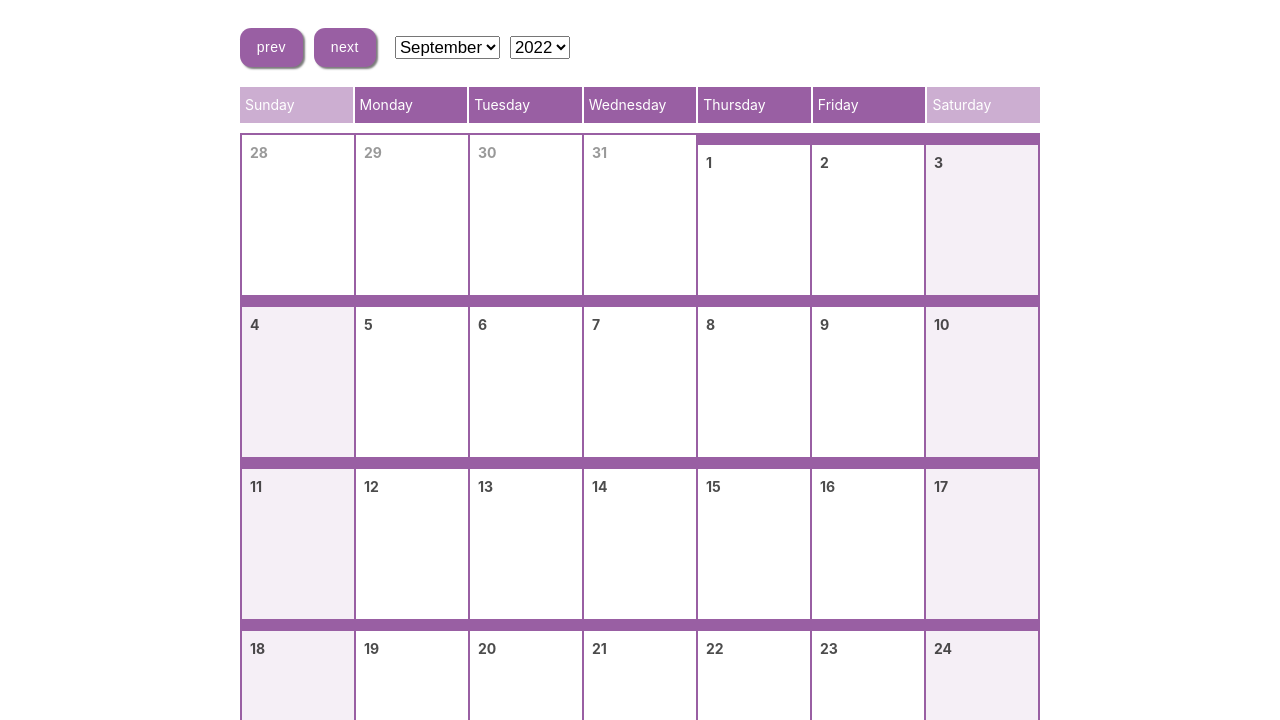
Test: Modal opens on date click and check date in modal
The width and height of the screenshot is (1280, 720).
Click the text "15" at (713, 486), box [706, 478, 721, 495]
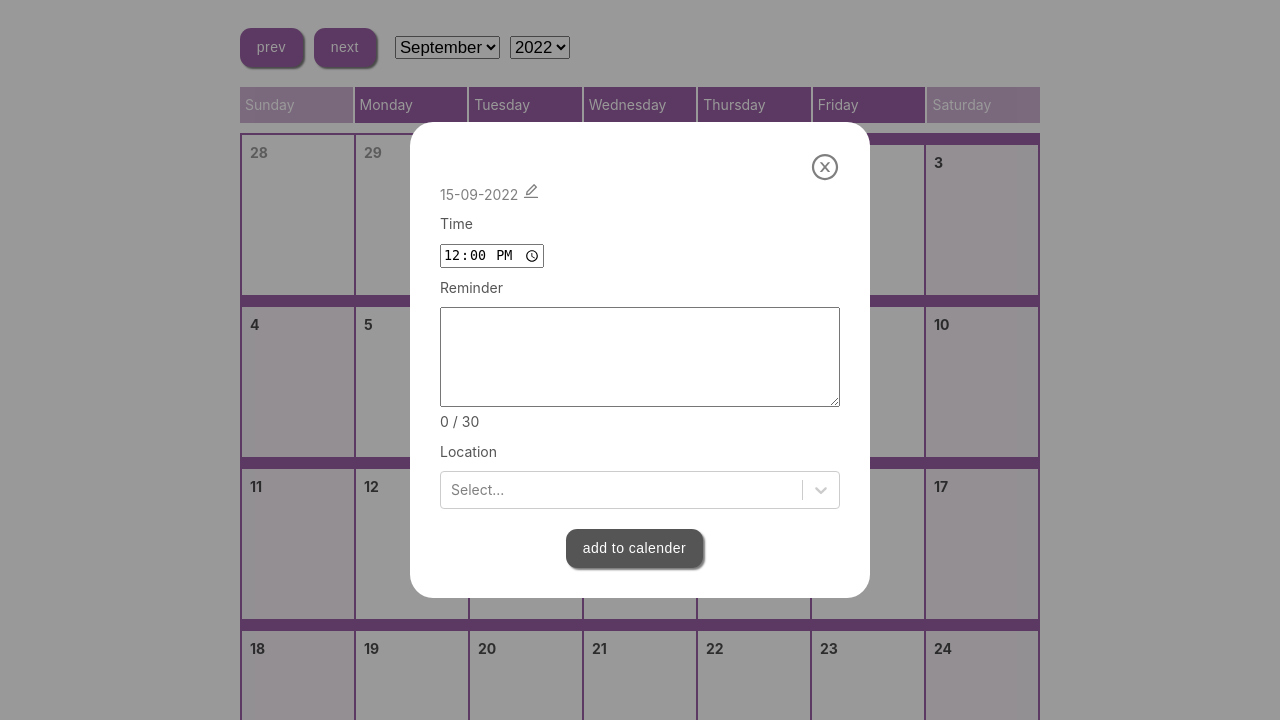
Now the text "Location Select..." is shown, box [440, 442, 840, 509]
Now the text "15-09-2022" is shown, box [440, 182, 540, 203]
